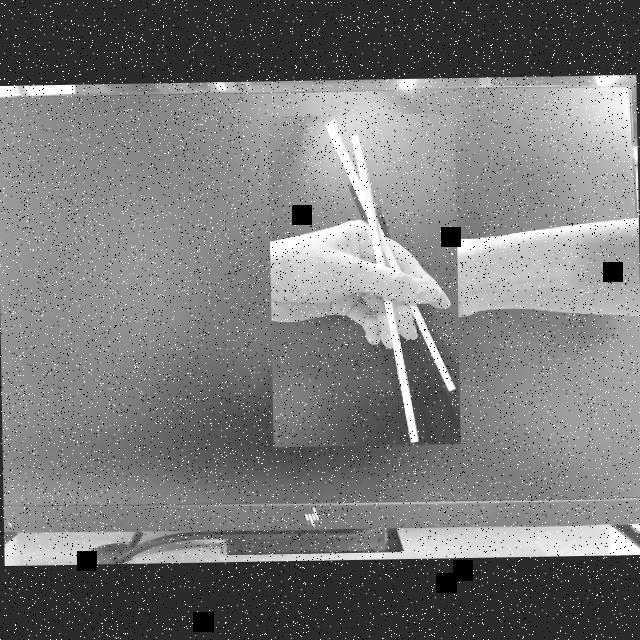stick: (268, 112, 460, 446)
